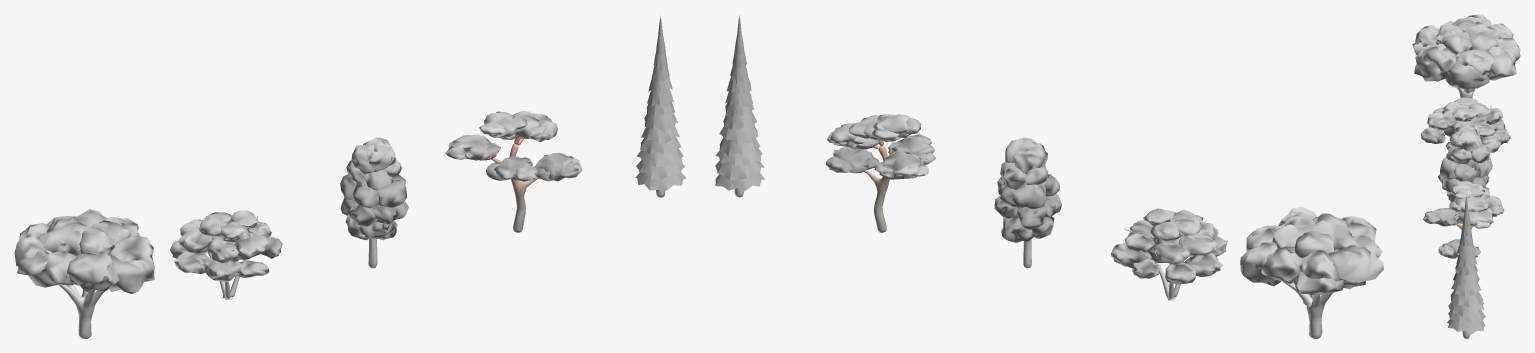
Rendered from trees.glb.
3 views of the same model, side by side, from view 1: azimuth 30°, elevation 25°; view 2: azimuth 150°, elevation 25°; view 3: azimuth 270°, elevation 25° (orthographic). The views are drawn at different scales.
Visible parts, largest first — view 1: deciduous_0_leaf, deciduous_1_leaf, deciduous_2_leaf, conifer_0_leaf, conifer_1_leaf, deciduous_0_wood, conifer_0_wood; view 2: deciduous_0_leaf, deciduous_1_leaf, deciduous_2_leaf, conifer_0_leaf, conifer_1_leaf, deciduous_0_wood, conifer_0_wood; view 3: deciduous_0_leaf, deciduous_1_leaf, conifer_1_leaf, conifer_0_leaf, deciduous_2_leaf, deciduous_0_wood.
Boxes of the visible parts, bbox=[...] form: deciduous_0_leaf: bbox=[14, 208, 154, 293]; deciduous_1_leaf: bbox=[170, 210, 282, 281]; deciduous_2_leaf: bbox=[340, 137, 408, 240]; conifer_0_leaf: bbox=[445, 111, 581, 181]; conifer_1_leaf: bbox=[636, 15, 685, 190]; deciduous_0_wood: bbox=[58, 284, 108, 338]; conifer_0_wood: bbox=[491, 136, 538, 232]; deciduous_0_leaf: bbox=[1240, 207, 1383, 294]; deciduous_1_leaf: bbox=[1111, 208, 1227, 284]; deciduous_2_leaf: bbox=[994, 137, 1061, 243]; conifer_0_leaf: bbox=[826, 114, 935, 179]; conifer_1_leaf: bbox=[715, 15, 764, 190]; deciduous_0_wood: bbox=[1282, 281, 1332, 338]; conifer_0_wood: bbox=[863, 139, 889, 232]; deciduous_0_leaf: bbox=[1412, 14, 1520, 88]; deciduous_1_leaf: bbox=[1421, 97, 1510, 152]; conifer_1_leaf: bbox=[1447, 194, 1485, 334]; conifer_0_leaf: bbox=[1423, 181, 1504, 258]; deciduous_2_leaf: bbox=[1438, 127, 1492, 201]; deciduous_0_wood: bbox=[1457, 88, 1475, 98].
Size of the model in its own units: 41.4 by 10.98 by 7.45.
